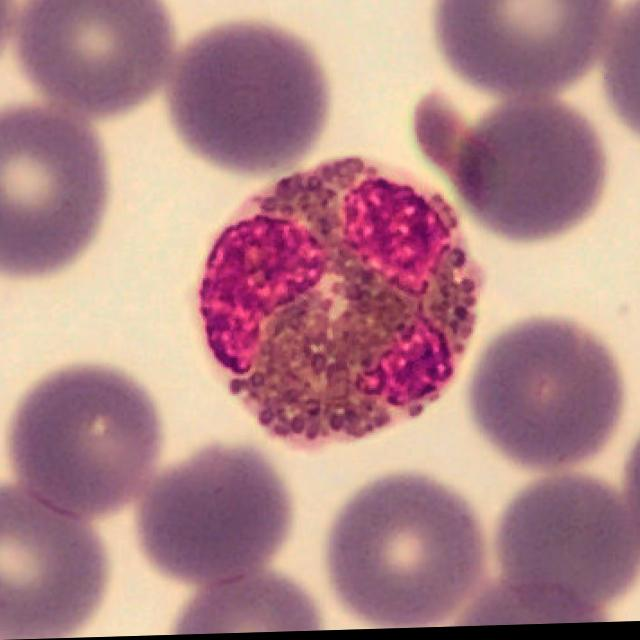Eosinofilo: (196, 157, 482, 453)
